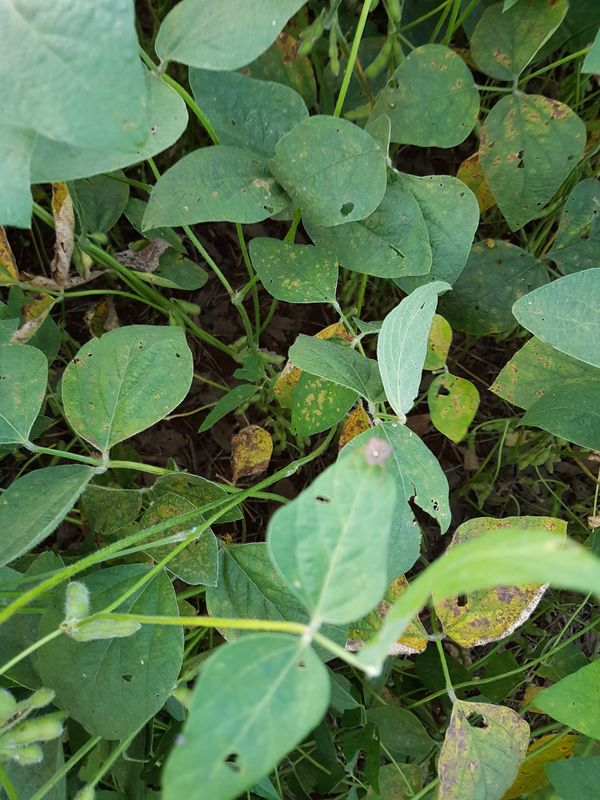Euschistus_heros_adulto: (354, 432, 403, 478)
